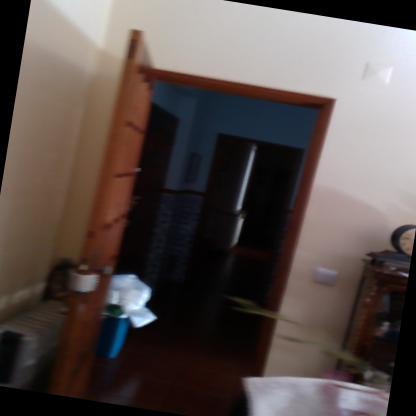open: (44, 17, 348, 415)
